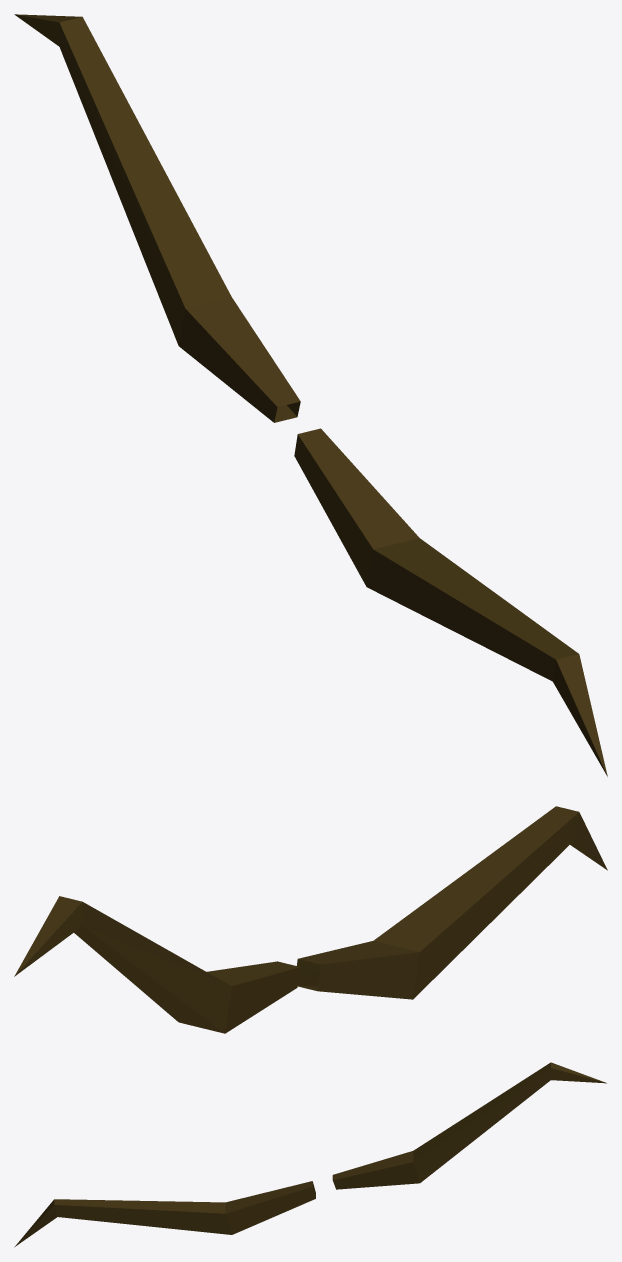
Rendered from npc_world_tower_archer_4_7.obj.
3 renders of one model, top to bottom at view 1: azimuth 30°, elevation 25°; view 2: azimuth 150°, elevation 25°; view 3: azimuth 270°, elevation 25°, orthographic. The views are drawn at different scales.
Bounding box in the file's own units: 0.0625 × 0.4688 × 1.38.
